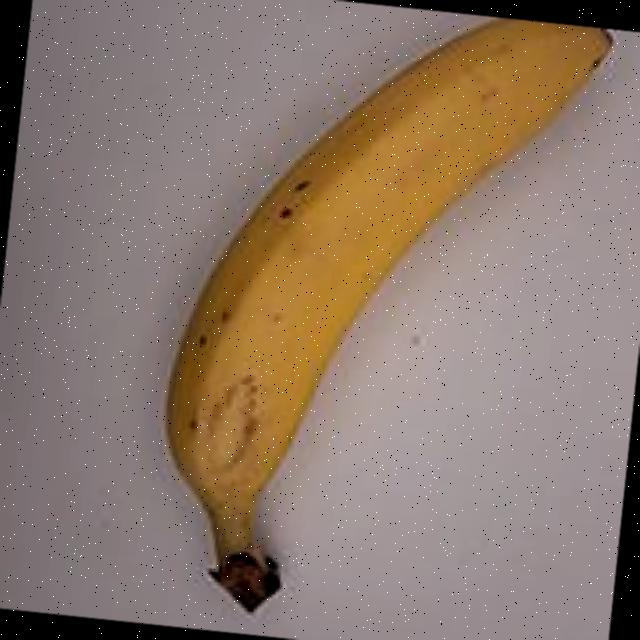Ripe: (115, 0, 632, 640)
